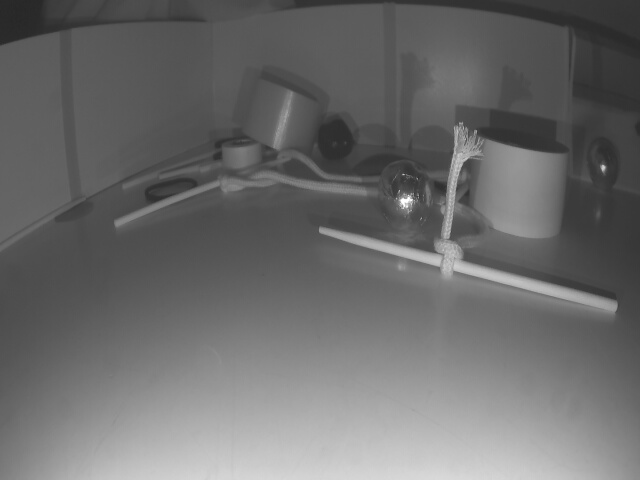Dead: (320, 117, 352, 154)
Live: (382, 159, 427, 232), (590, 137, 618, 189)
